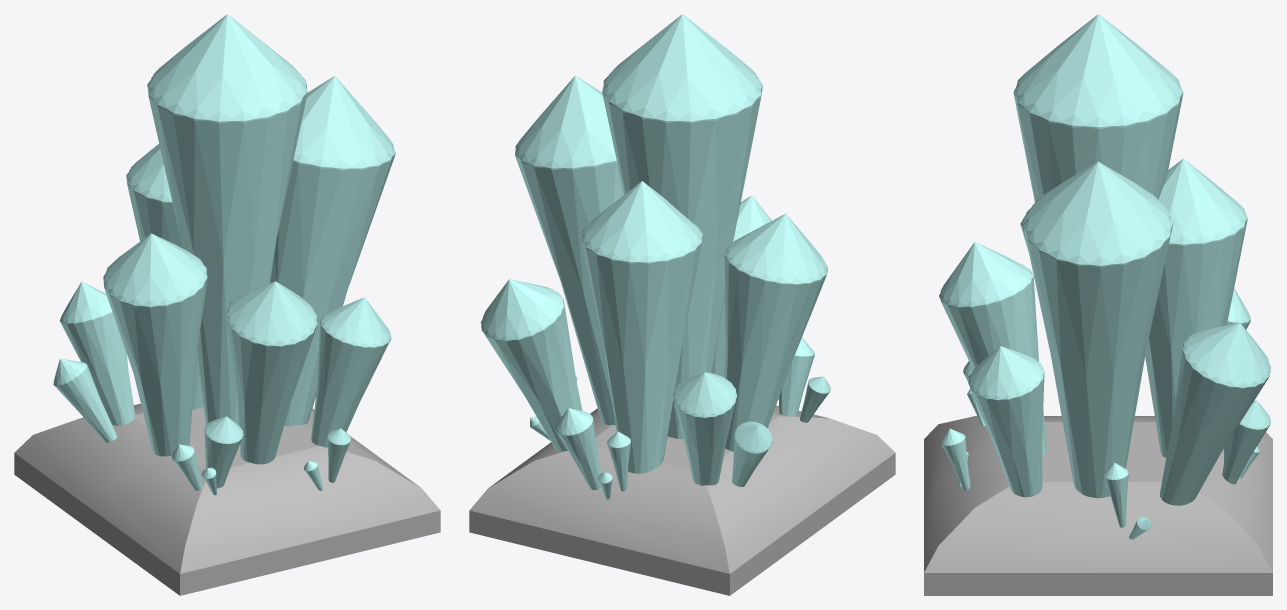
The model's file is crystal-mountain-scaled.fbx.
3 views of the same model, side by side, from view 1: azimuth 30°, elevation 25°; view 2: azimuth 150°, elevation 25°; view 3: azimuth 270°, elevation 25° (orthographic). The views are drawn at different scales.
Parts seen in each view (by area): view 1: pasted__pPlane7.001; view 2: pasted__pPlane7.001; view 3: pasted__pPlane7.001.
Boxes of the visible parts, bbox=[...] form: pasted__pPlane7.001: bbox=[14, 14, 440, 595]; pasted__pPlane7.001: bbox=[469, 14, 895, 595]; pasted__pPlane7.001: bbox=[924, 14, 1272, 595].
Size of the model in its own units: 3899 by 6313 by 3876.
